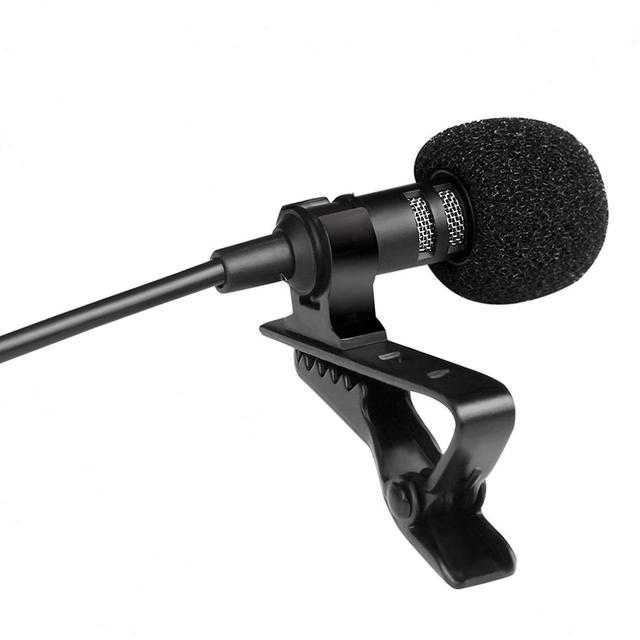microphone: (218, 118, 603, 317)
